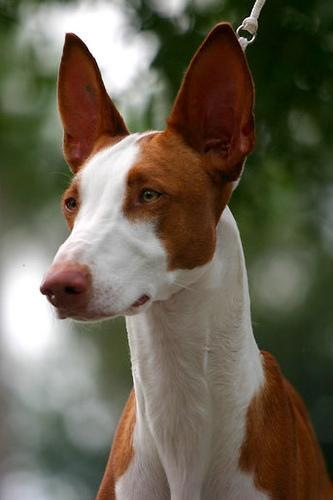Ibizan_hound: (38, 21, 331, 498)
